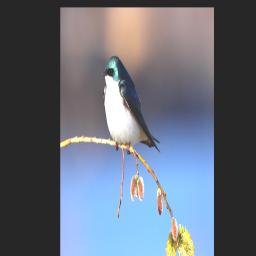Swallow: (101, 54, 161, 153)
